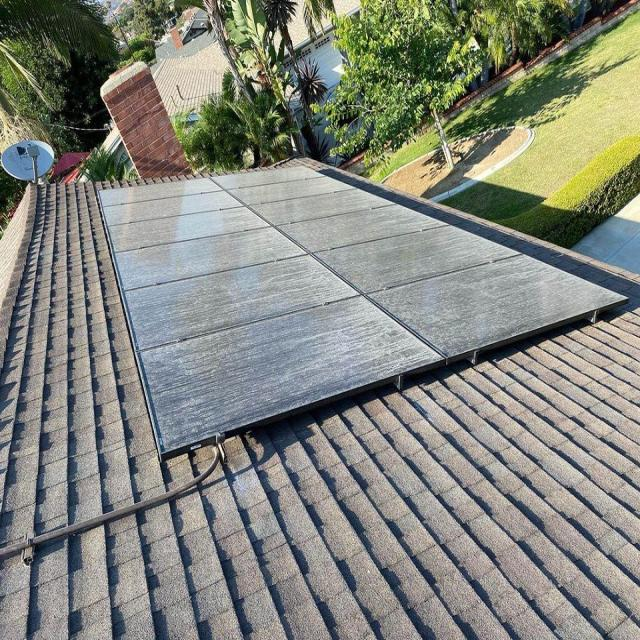dust-solar-panel: (98, 166, 626, 457)
